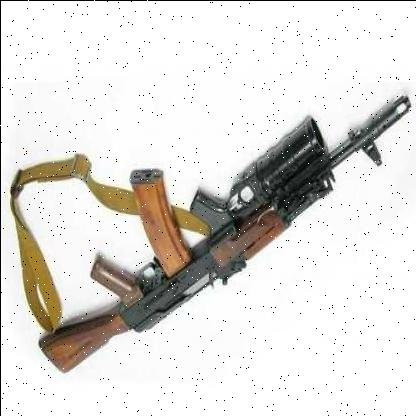rifle: (38, 69, 414, 390)
